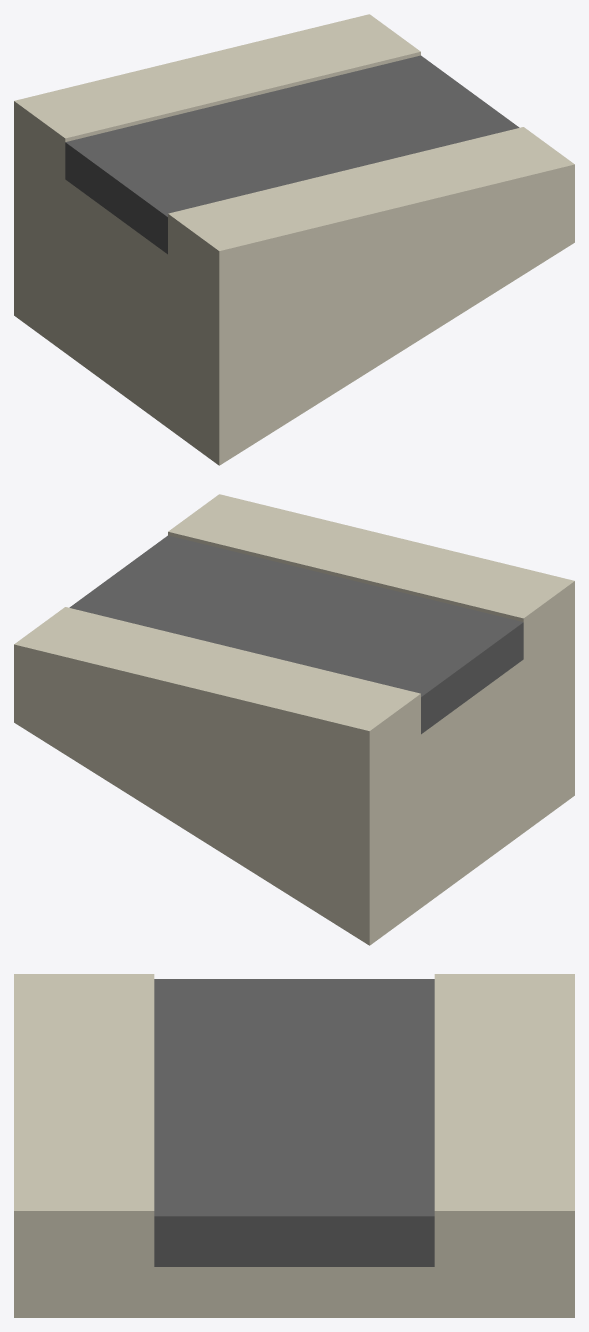
The model's file is tile077.fbx.
The picture shows the model from 3 angles, top to bottom: view 1: azimuth 30°, elevation 25°; view 2: azimuth 150°, elevation 25°; view 3: azimuth 270°, elevation 25°; orthographic projection. The views are drawn at different scales.
Parts seen in each view (by area): view 1: tile077; view 2: tile077; view 3: tile077.
Part boxes in pixels (x1,y1,x2,y2): tile077: [14, 14, 574, 465]; tile077: [14, 494, 574, 945]; tile077: [14, 974, 574, 1317].
Size of the model in its own units: 10 by 5.77 by 10.
